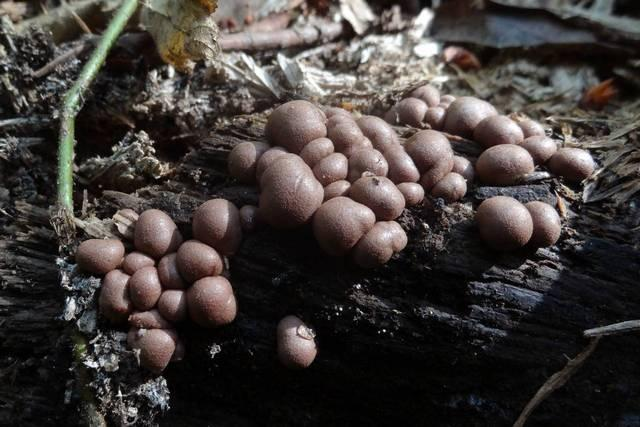poisonous_mushroom: (73, 82, 593, 374), (226, 98, 473, 266), (74, 197, 242, 374), (257, 152, 324, 226), (312, 195, 375, 254), (264, 98, 327, 151), (475, 194, 533, 250), (185, 274, 237, 327), (275, 313, 318, 369), (524, 199, 561, 247)
